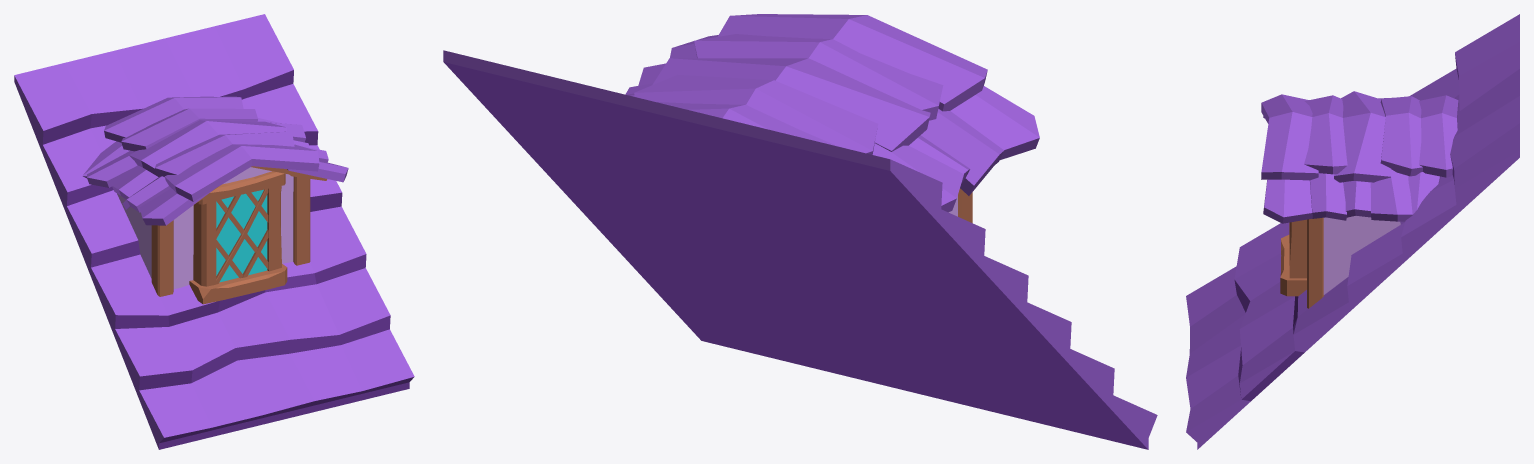
The model's file is Roof 02 Window 02.fbx.
3 renders of one model, left to right at view 1: azimuth 30°, elevation 25°; view 2: azimuth 150°, elevation 25°; view 3: azimuth 270°, elevation 25°, orthographic. The views are drawn at different scales.
Visible parts, largest first — view 1: Roof 02 Window 01; view 2: Roof 02 Window 01; view 3: Roof 02 Window 01.
Part boxes in pixels (x1,y1,x2,y2): Roof 02 Window 01: (14, 14, 414, 449); Roof 02 Window 01: (443, 14, 1157, 449); Roof 02 Window 01: (1186, 14, 1519, 449).
Size of the model in its own units: 400 by 410 by 414.
